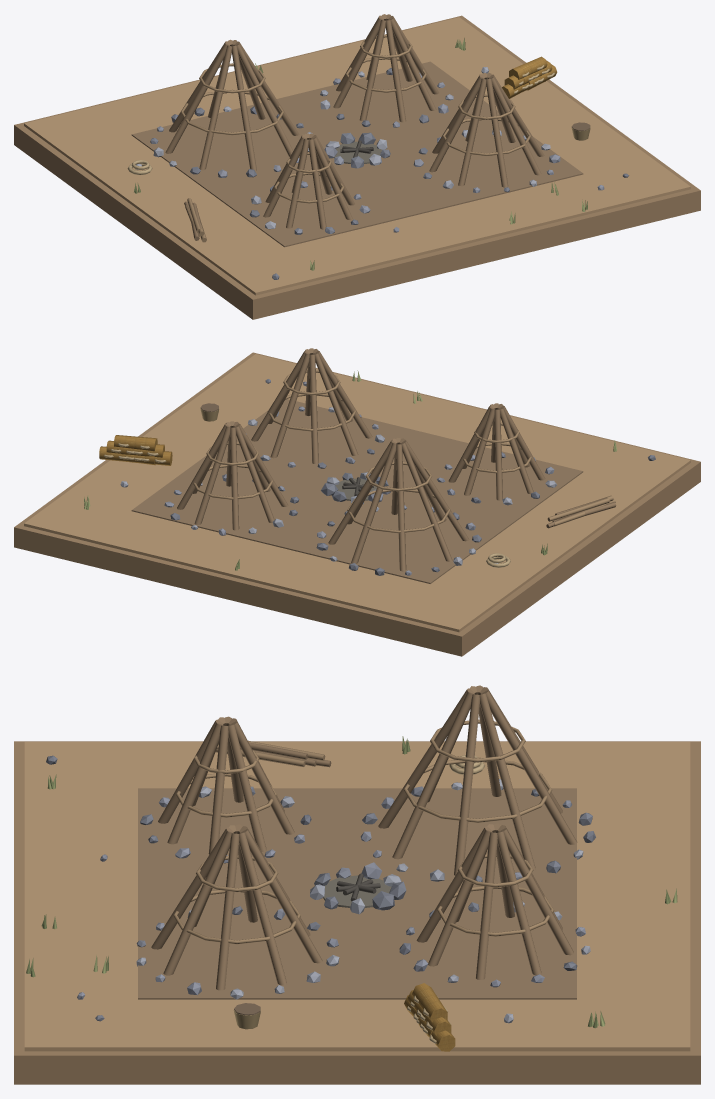
File: num-2-construction.glb
The picture shows the model from 3 angles, top to bottom: view 1: azimuth 30°, elevation 25°; view 2: azimuth 150°, elevation 25°; view 3: azimuth 270°, elevation 25°; orthographic projection. The views are drawn at different scales.
Parts seen in each view (by area): view 1: era1; view 2: era1; view 3: era1.
Boxes of the visible parts, left/top/right/bottom form: era1: left=14, top=14, right=700, bottom=319; era1: left=14, top=348, right=700, bottom=656; era1: left=14, top=685, right=700, bottom=1084.
Bounding box in the file's own units: 21.18 × 5.58 × 19.4.
18 materials, 1 textured.
